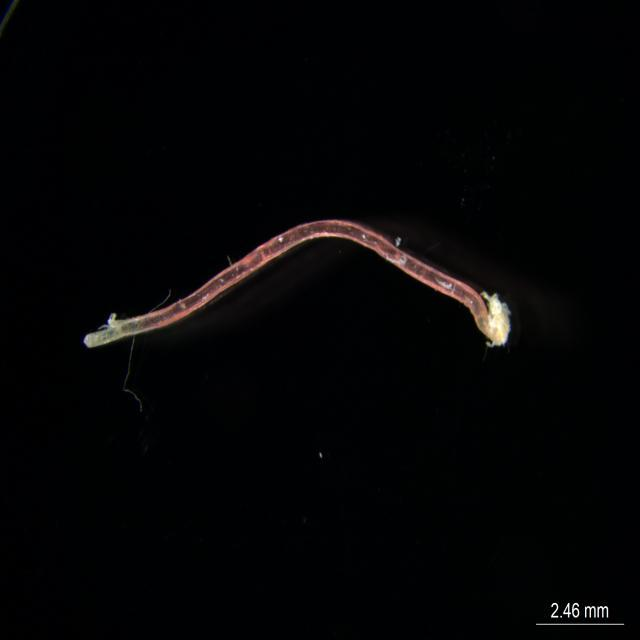fibers: (82, 218, 511, 347)
